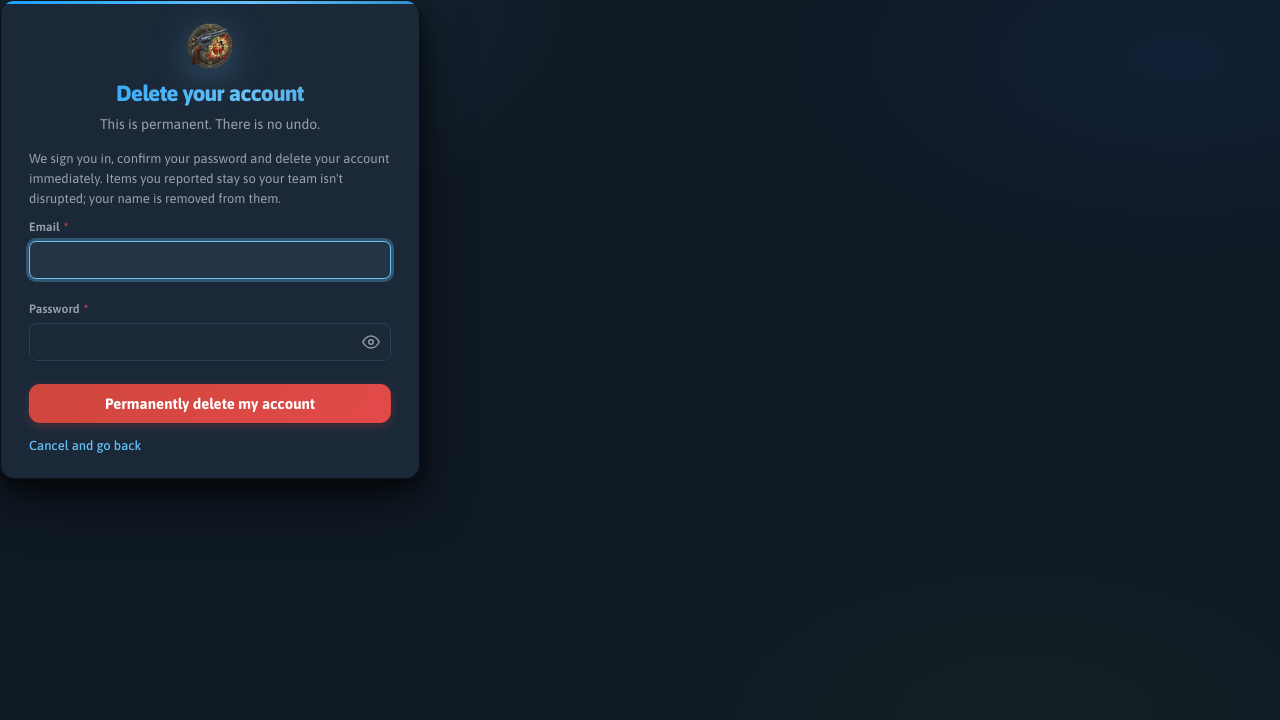
Test: DeleteAccountPage › signs in, then deletes with the password
The width and height of the screenshot is (1280, 720).
Step 1. Type "alex@acme.test" into the field labelled "Email *" → [210, 260], box [29, 241, 391, 279]
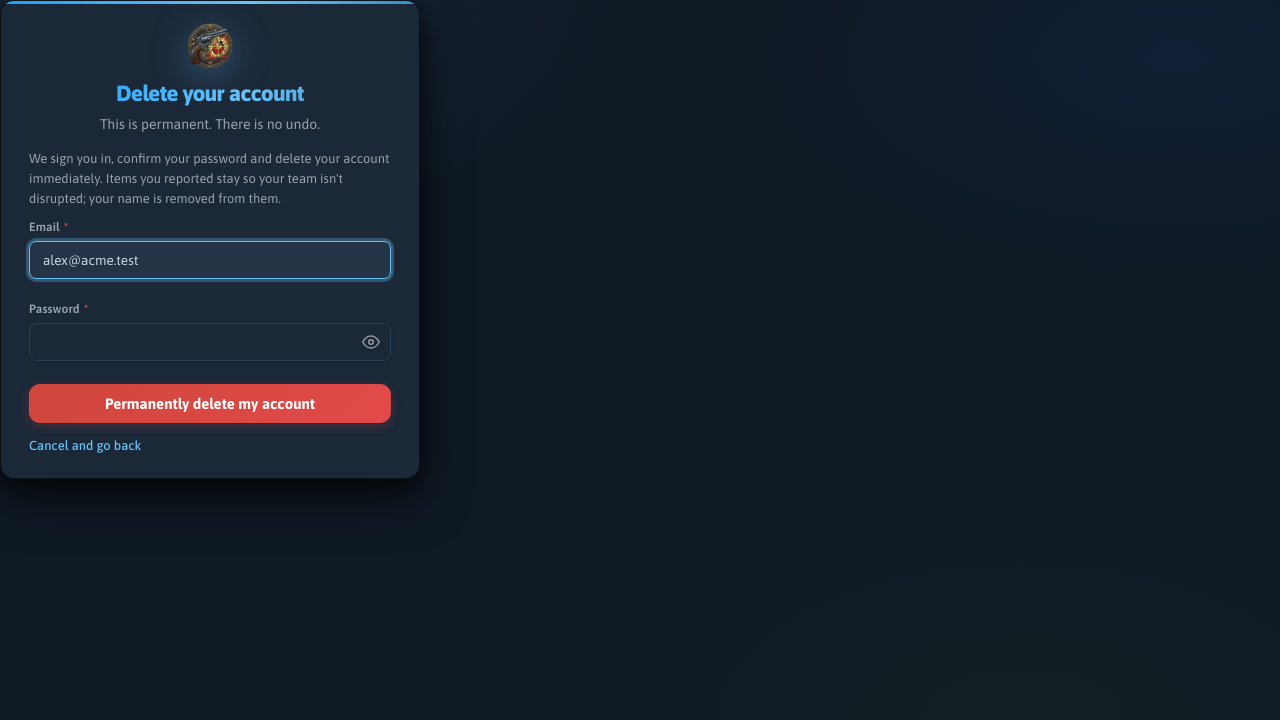
Step 2. Type "Passw0rd!x" into the password field labelled "Password *" → [210, 342], box [29, 323, 391, 361]
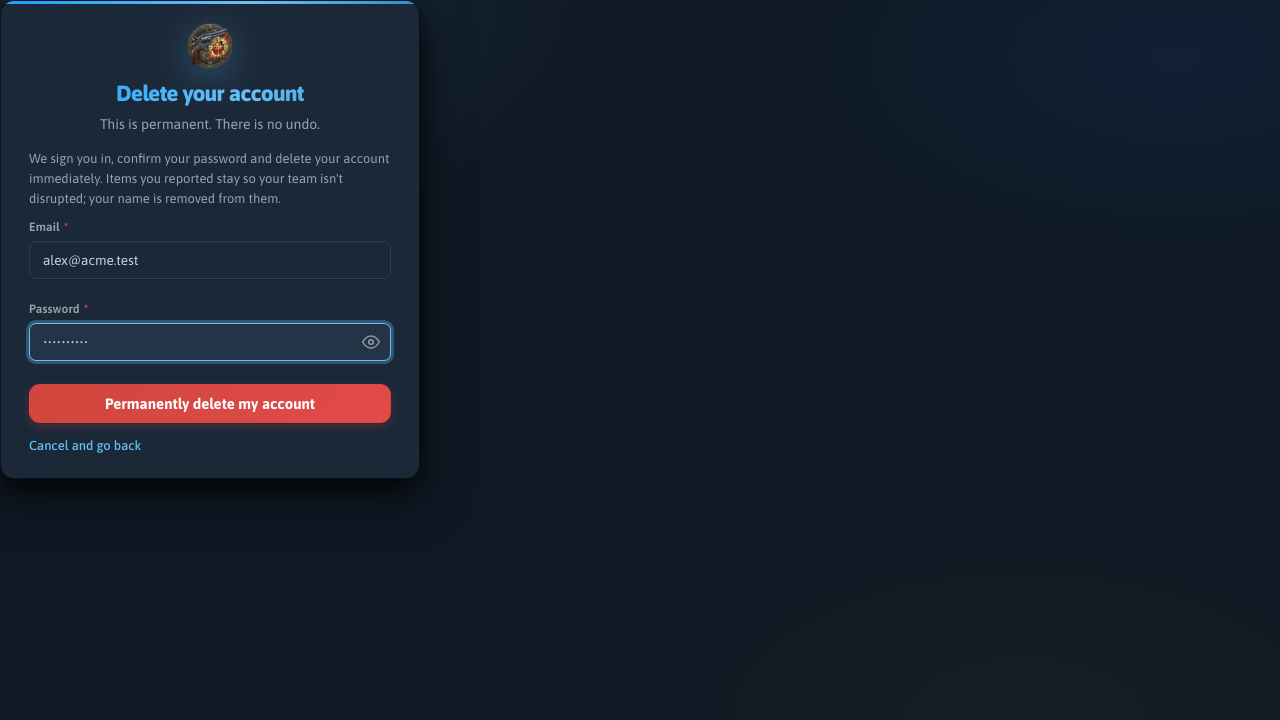
Step 3. Click the button "Permanently delete my account" → [210, 404], box [29, 384, 391, 423]
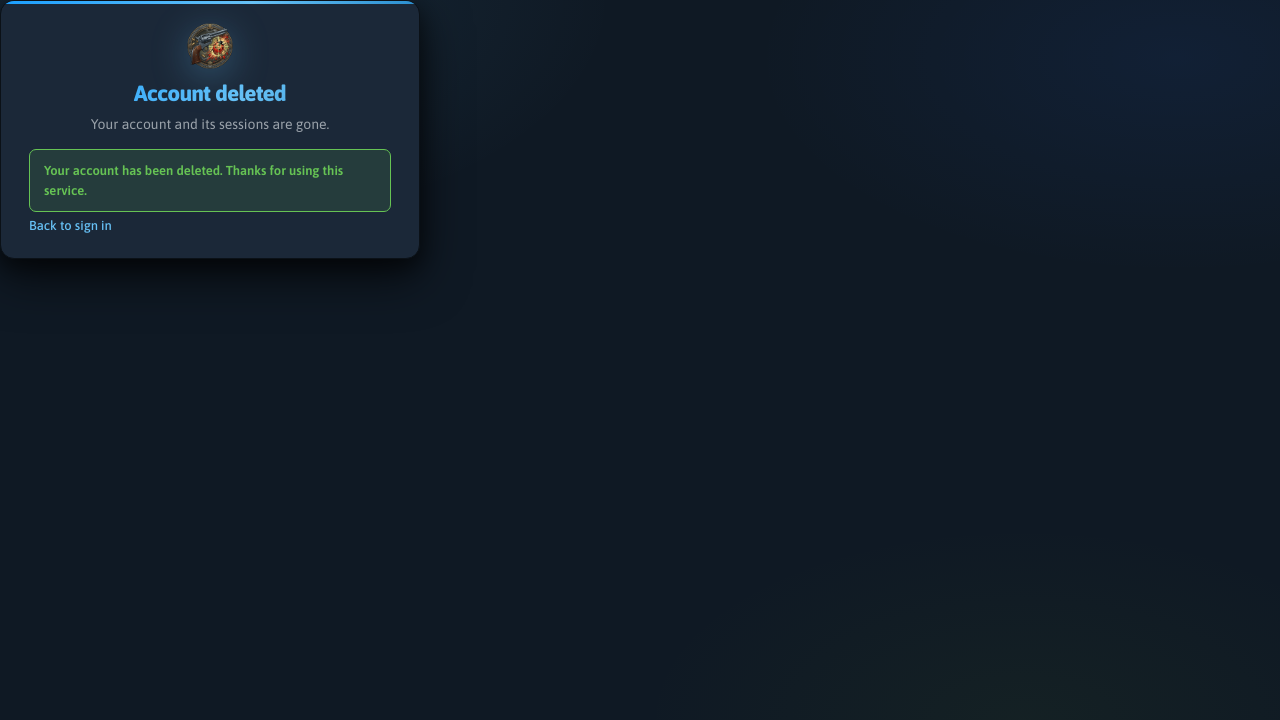
Expected: the text "Your account has been deleted. Thanks for using this service." is shown, [29, 149, 391, 212]
